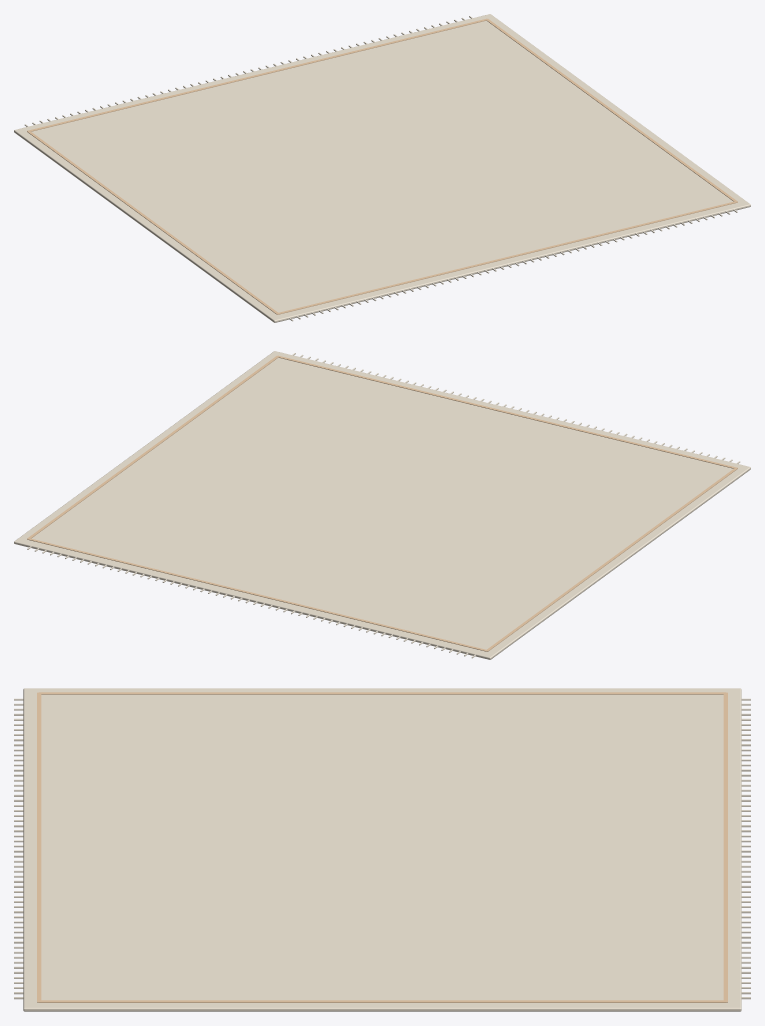
The model's file is bedroom_ref_rug.glb.
3 renders of one model, top to bottom at view 1: azimuth 30°, elevation 25°; view 2: azimuth 150°, elevation 25°; view 3: azimuth 270°, elevation 25°, orthographic. The views are drawn at different scales.
Size of the model in its own units: 5.7 by 0.039 by 5.54.
